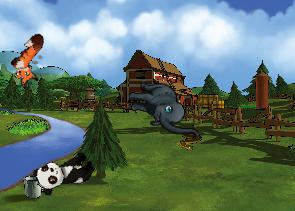elephant: (128, 81, 198, 138)
fox: (1, 30, 61, 92)
panda: (31, 146, 98, 198)
